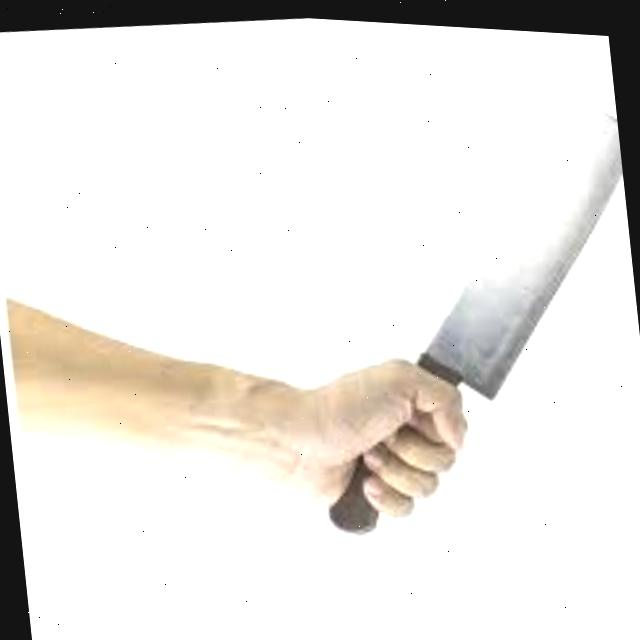knife: (0, 41, 617, 627), (283, 67, 640, 543), (309, 348, 475, 532)
